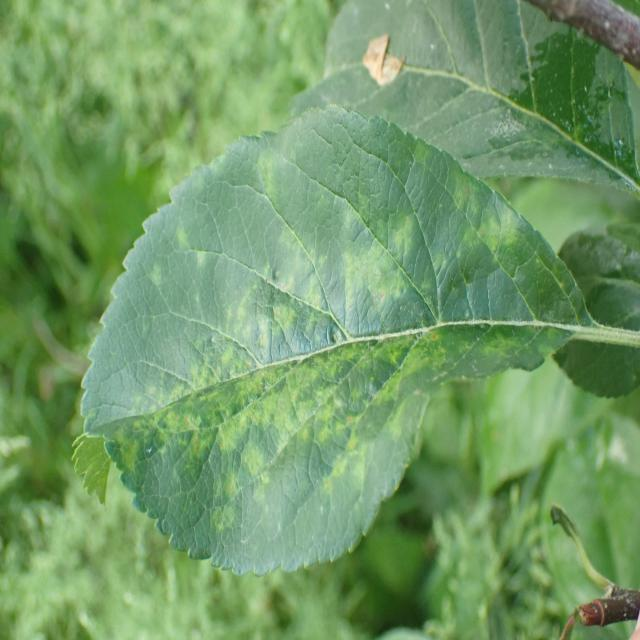scab: (114, 185, 563, 534)
